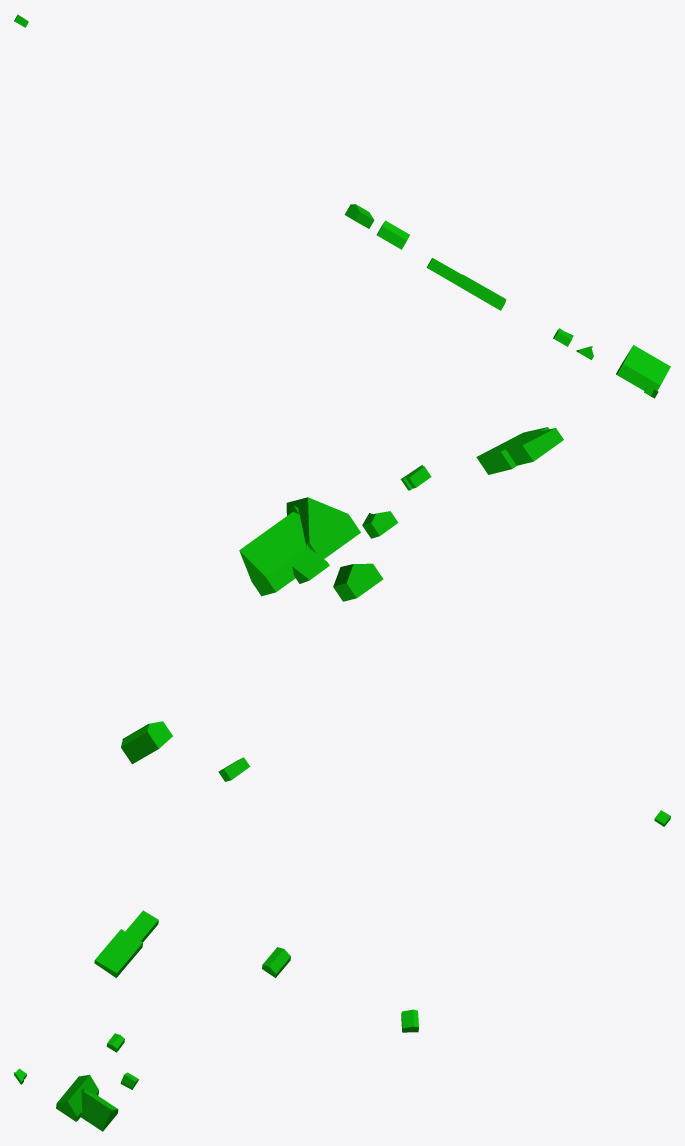
3 renders of one model, top to bottom at view 1: azimuth 30°, elevation 25°; view 2: azimuth 150°, elevation 25°; view 3: azimuth 270°, elevation 25°, orthographic. The views are drawn at different scales.
Parts seen in each view (by area): view 1: mesh; view 2: mesh; view 3: mesh.
Part boxes in pixels (box(x1,y1,x2,y2)): mesh: box(14, 14, 670, 398); mesh: box(121, 427, 563, 781); mesh: box(14, 810, 670, 1131).
Bounding box in the file's own units: 92.37 × 59.83 × 188.
